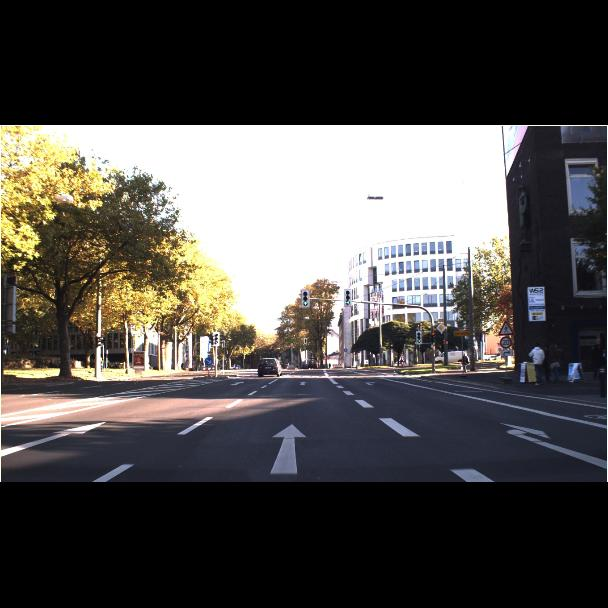pedestrian crossing: (204, 320, 515, 366)
